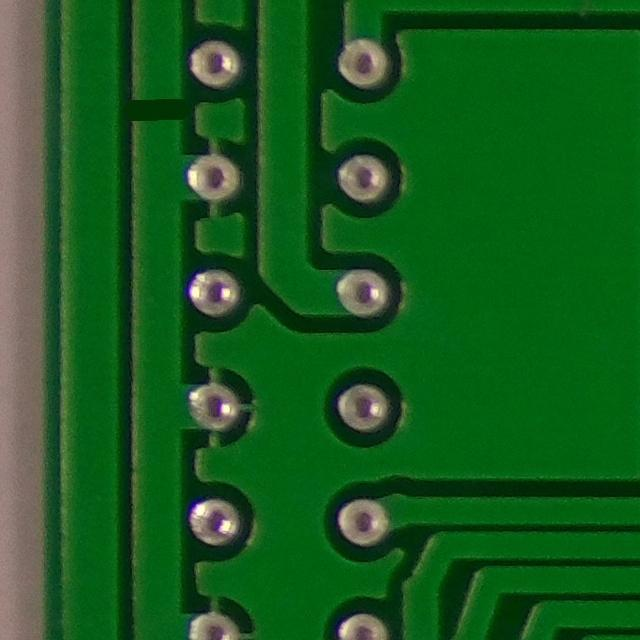open_circuit: (126, 81, 197, 137)
